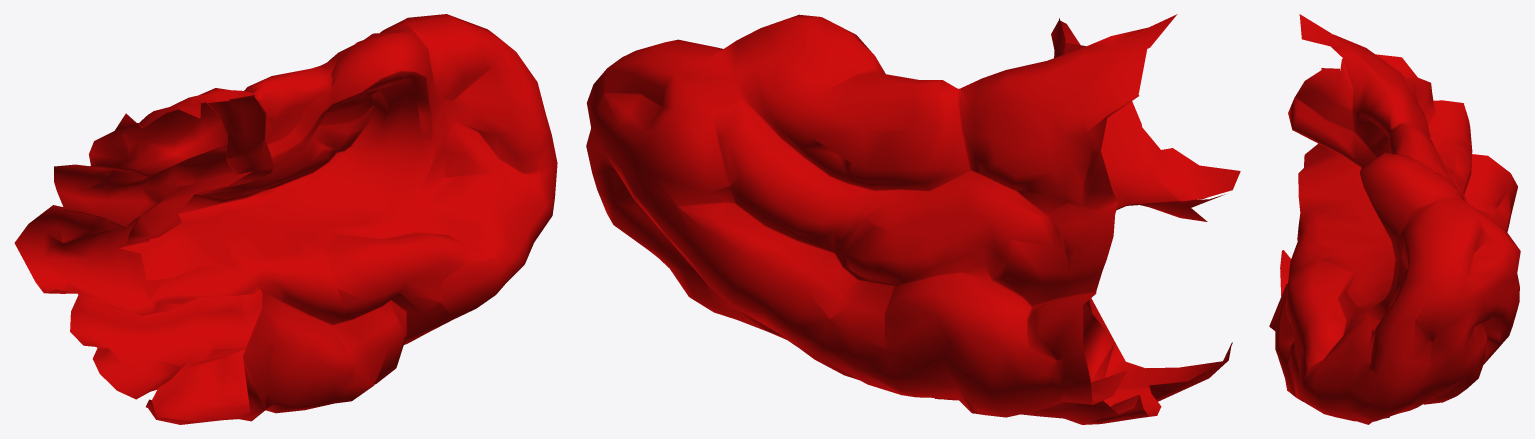
File: region_2.obj
The picture shows the model from 3 angles, left to right: view 1: azimuth 30°, elevation 25°; view 2: azimuth 150°, elevation 25°; view 3: azimuth 270°, elevation 25°; orthographic projection. The views are drawn at different scales.
Visible parts, largest first — view 1: ID21; view 2: ID21; view 3: ID21.
Boxes of the visible parts, left/top/right/bottom form: ID21: left=14, top=14, right=557, bottom=424; ID21: left=586, top=14, right=1240, bottom=424; ID21: left=1269, top=14, right=1520, bottom=424.
Bounding box in the file's own units: 119 × 79.77 × 58.91.
